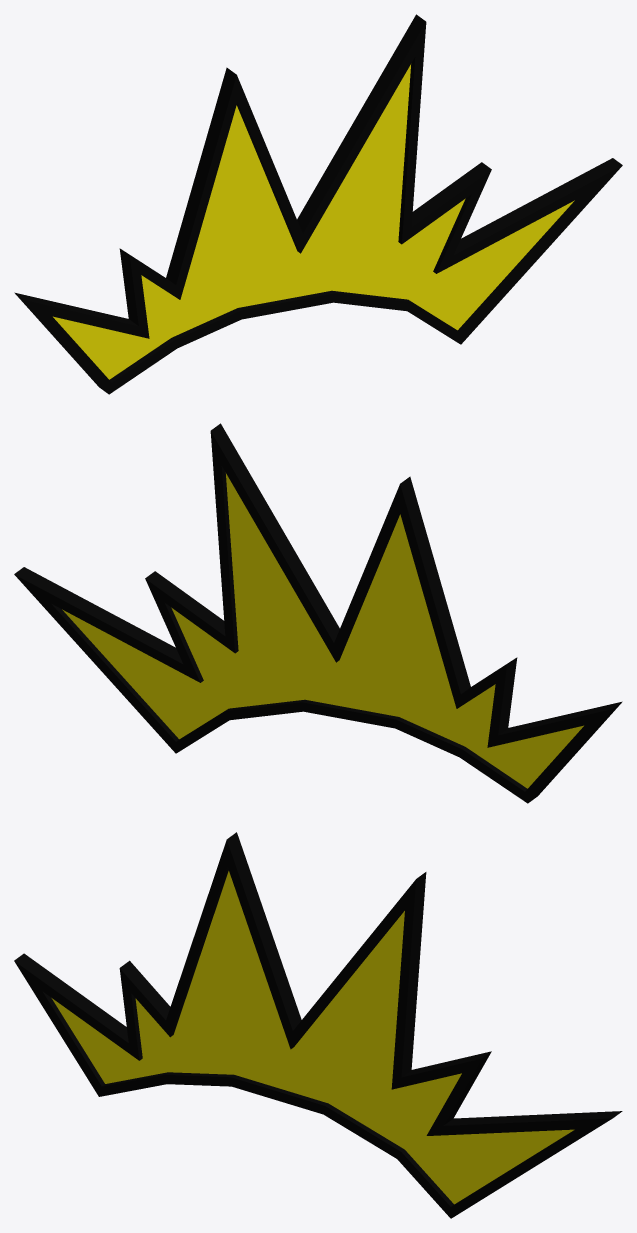
File: Crash_001.FBX
The picture shows the model from 3 angles, top to bottom: view 1: azimuth 30°, elevation 25°; view 2: azimuth 150°, elevation 25°; view 3: azimuth 330°, elevation 25°; orthographic projection.
Parts seen in each view (by area): view 1: Crash_001; view 2: Crash_001; view 3: Crash_001.
Boxes of the visible parts, left/top/right/bottom form: Crash_001: left=14, top=14, right=622, bottom=394; Crash_001: left=14, top=423, right=622, bottom=803; Crash_001: left=14, top=832, right=622, bottom=1218.
Bounding box in the file's own units: 137 × 4 × 72.42.
